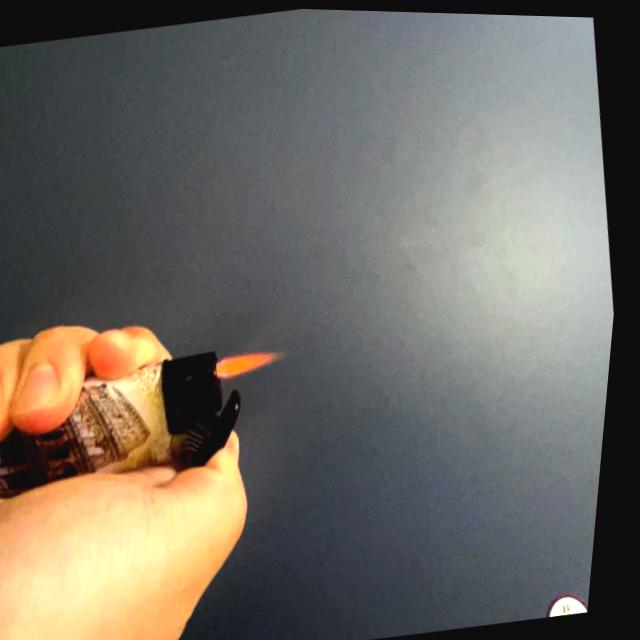Fire: (219, 341, 293, 383)
